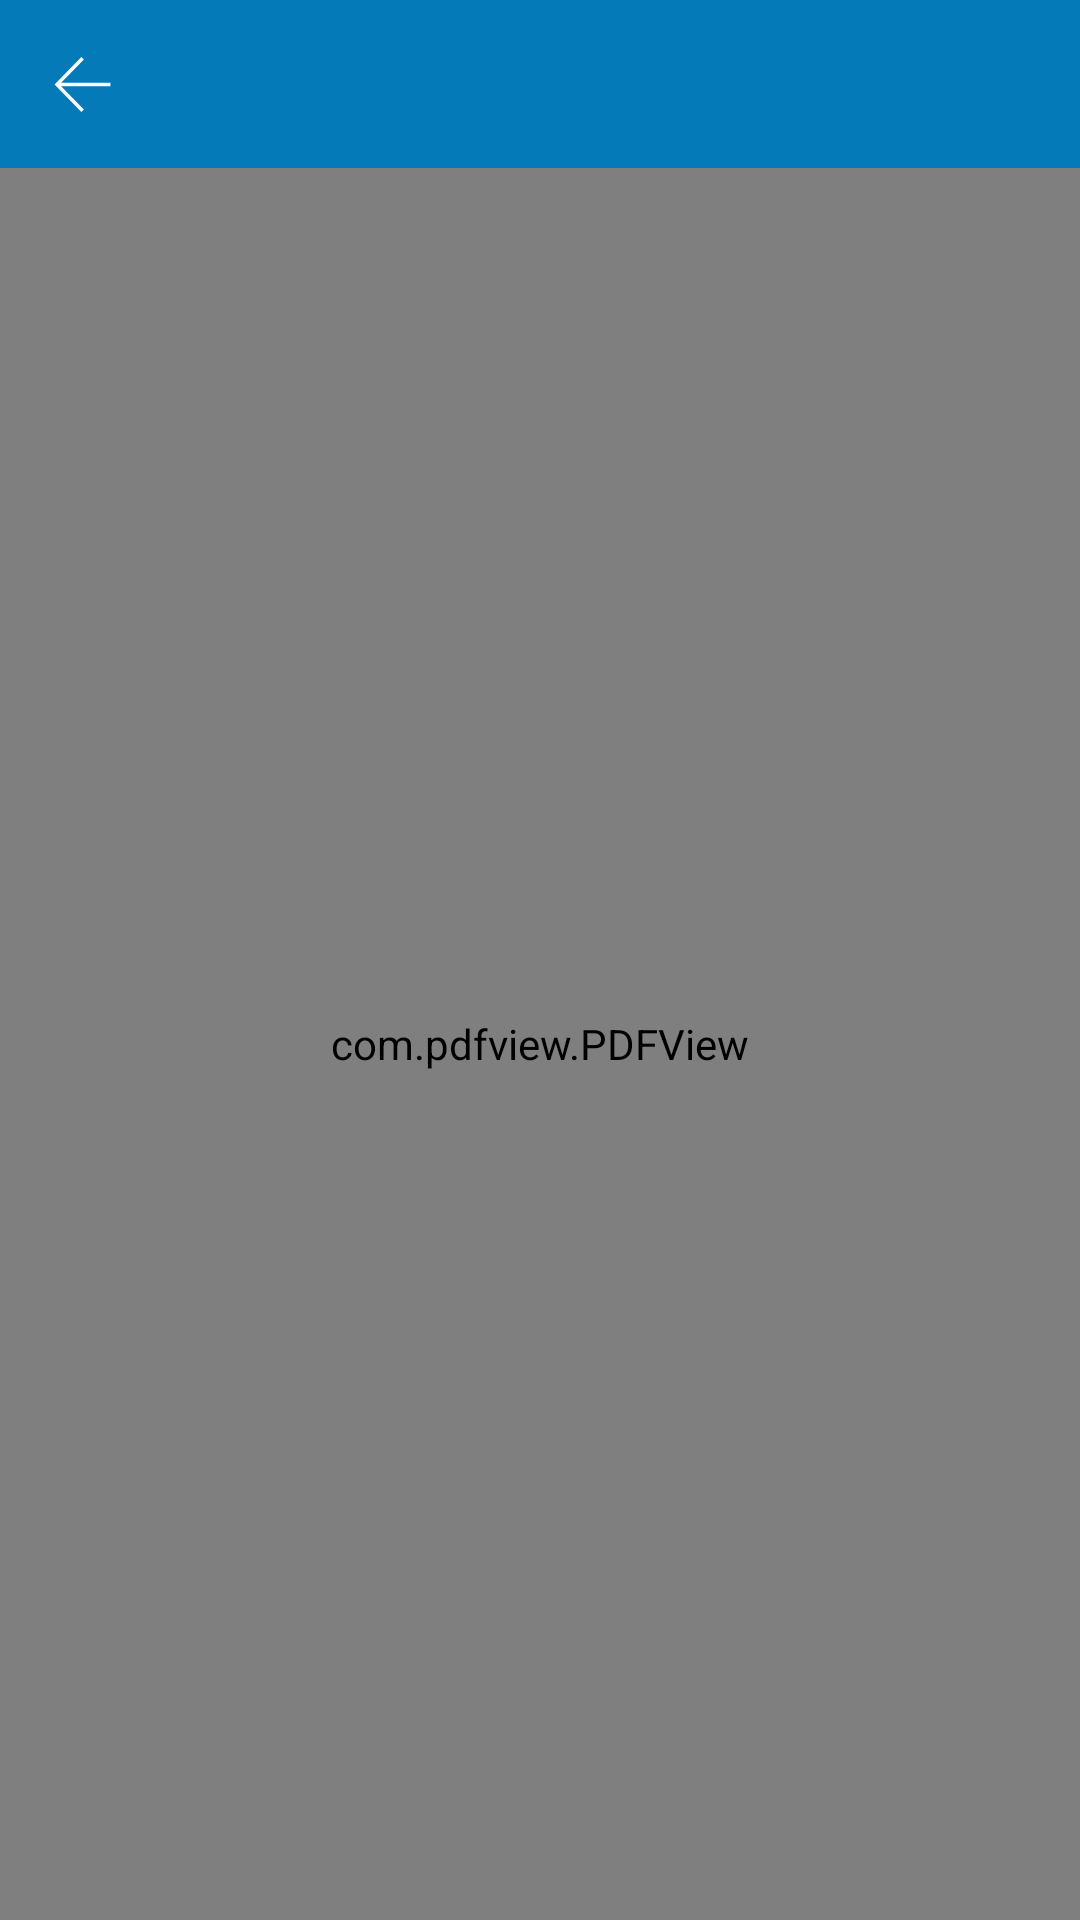

Screen size 1080px x 1920px. Icon name, then its center in pixels as point (x, y):
back: point (82, 84)
